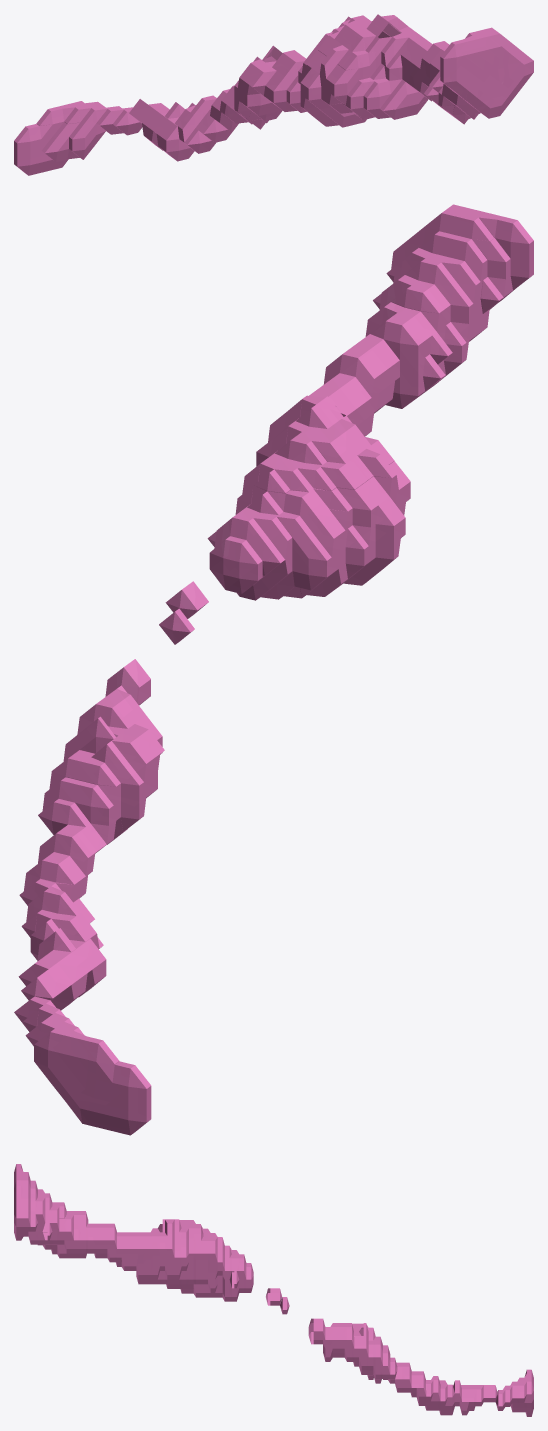
The model's file is SVV_SABD.gltf.
3 renders of one model, top to bottom at view 1: azimuth 30°, elevation 25°; view 2: azimuth 150°, elevation 25°; view 3: azimuth 270°, elevation 25°, orthographic. The views are drawn at different scales.
Parts seen in each view (by area): view 1: SABD; view 2: SABD; view 3: SABD.
Boxes of the visible parts, x1,y1,x2,y2 form: SABD: [14, 14, 533, 175]; SABD: [14, 204, 533, 1135]; SABD: [14, 1164, 533, 1416].
Size of the model in its own units: 7684 by 15871 by 27791.
